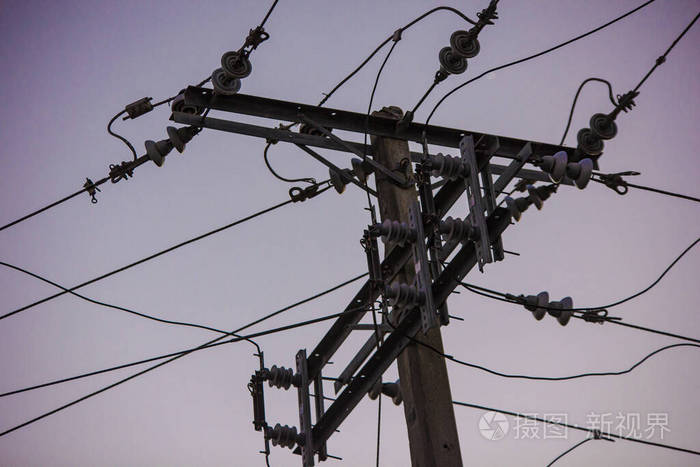insulator: (438, 30, 483, 75), (543, 151, 595, 189), (575, 112, 616, 155), (146, 122, 184, 168), (210, 52, 251, 92), (326, 157, 367, 196), (532, 292, 575, 327)
